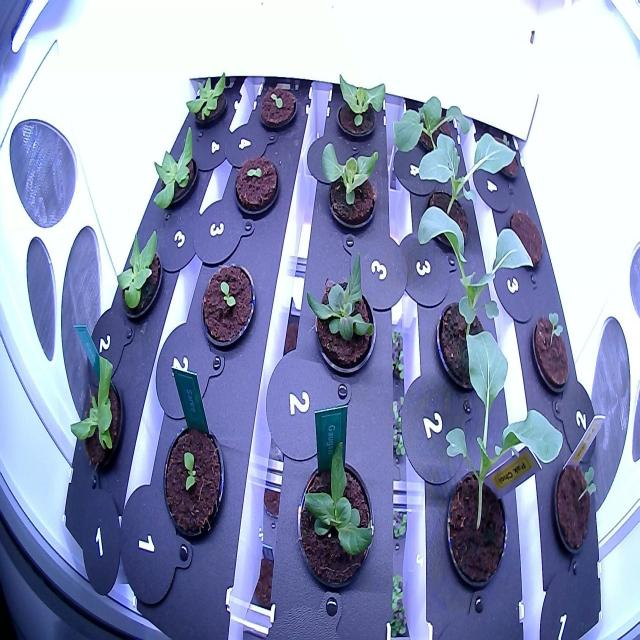germination: (160, 412, 227, 545), (198, 254, 258, 359), (548, 450, 602, 560), (526, 299, 577, 397), (232, 146, 285, 229), (253, 78, 302, 140), (485, 126, 522, 185)
pod: (502, 199, 548, 275)
young: (292, 441, 379, 597), (301, 238, 379, 383), (62, 347, 134, 479), (313, 135, 384, 236), (108, 222, 169, 328), (146, 116, 201, 222), (324, 63, 392, 148), (180, 63, 232, 142)
